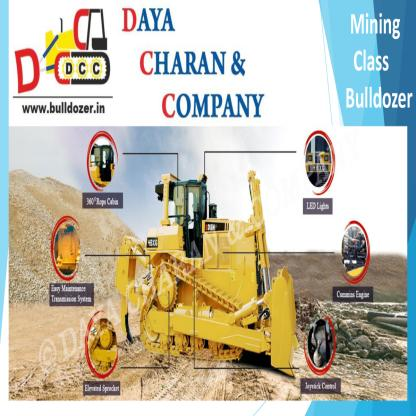bull_dozer/loader/grader: (112, 152, 312, 383)
